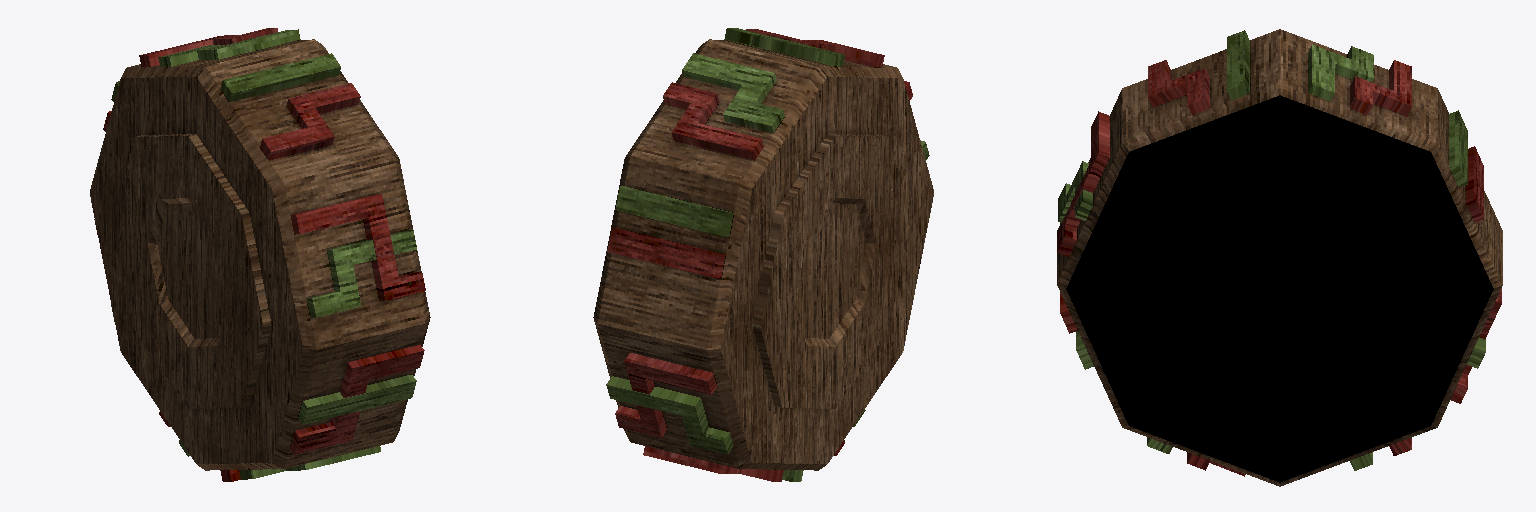
The picture shows the model from 3 angles: view 1: azimuth 30°, elevation 25°; view 2: azimuth 150°, elevation 25°; view 3: azimuth 270°, elevation 25°; orthographic projection.
Parts seen in each view (by area): view 1: Codex_part1; view 2: Codex_part1; view 3: Codex_part1.
Boxes of the visible parts, x1=… form: Codex_part1: x1=90, y1=28, x2=430, y2=481; Codex_part1: x1=593, y1=28, x2=933, y2=481; Codex_part1: x1=1057, y1=29, x2=1502, y2=486.
Size of the model in its own units: 23.59 by 67.37 by 67.37.
Materials: 3 (3 with a texture image).